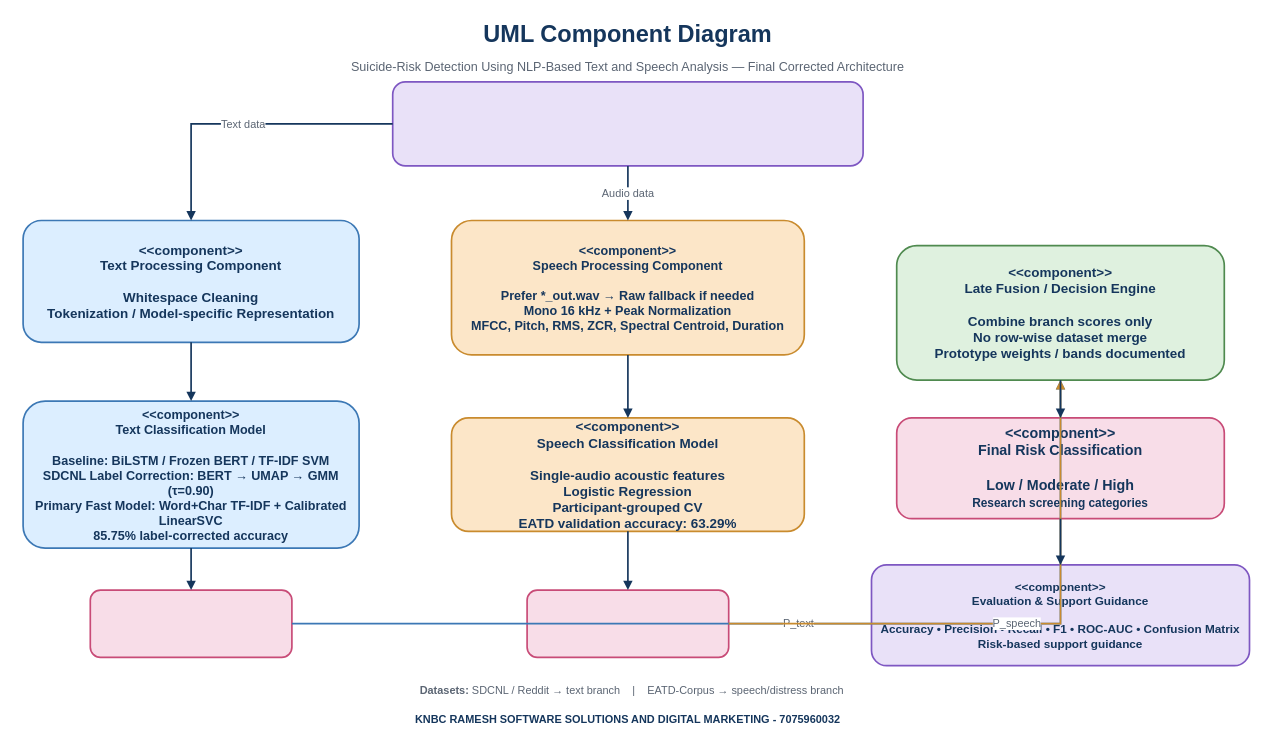
Some shapes in this 1264 by 745 pixel diagram are drawn without their labels. Here are the shapes that lost their labels. From the top down, the box of each, then its label:
(391, 81, 864, 166): <<component>> User Interface Text Input | Speech Input | Both
(89, 589, 292, 658): Text Risk Score P_text (0–1)
(526, 589, 729, 658): Speech Distress Score P_speech (0–1)
